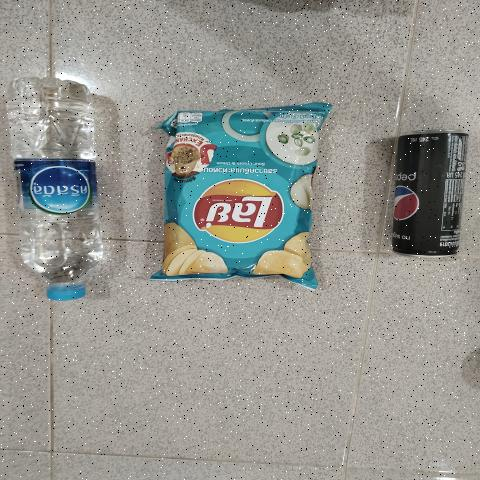crystal: (15, 72, 95, 302)
lay_blue: (175, 114, 314, 280)
pepsi_black: (399, 132, 457, 256)
